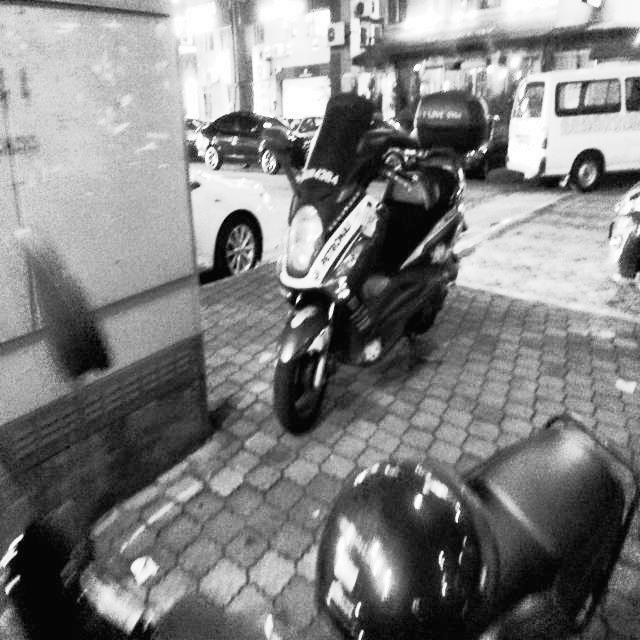Motorcycle: (0, 408, 640, 640), (240, 68, 485, 381)
